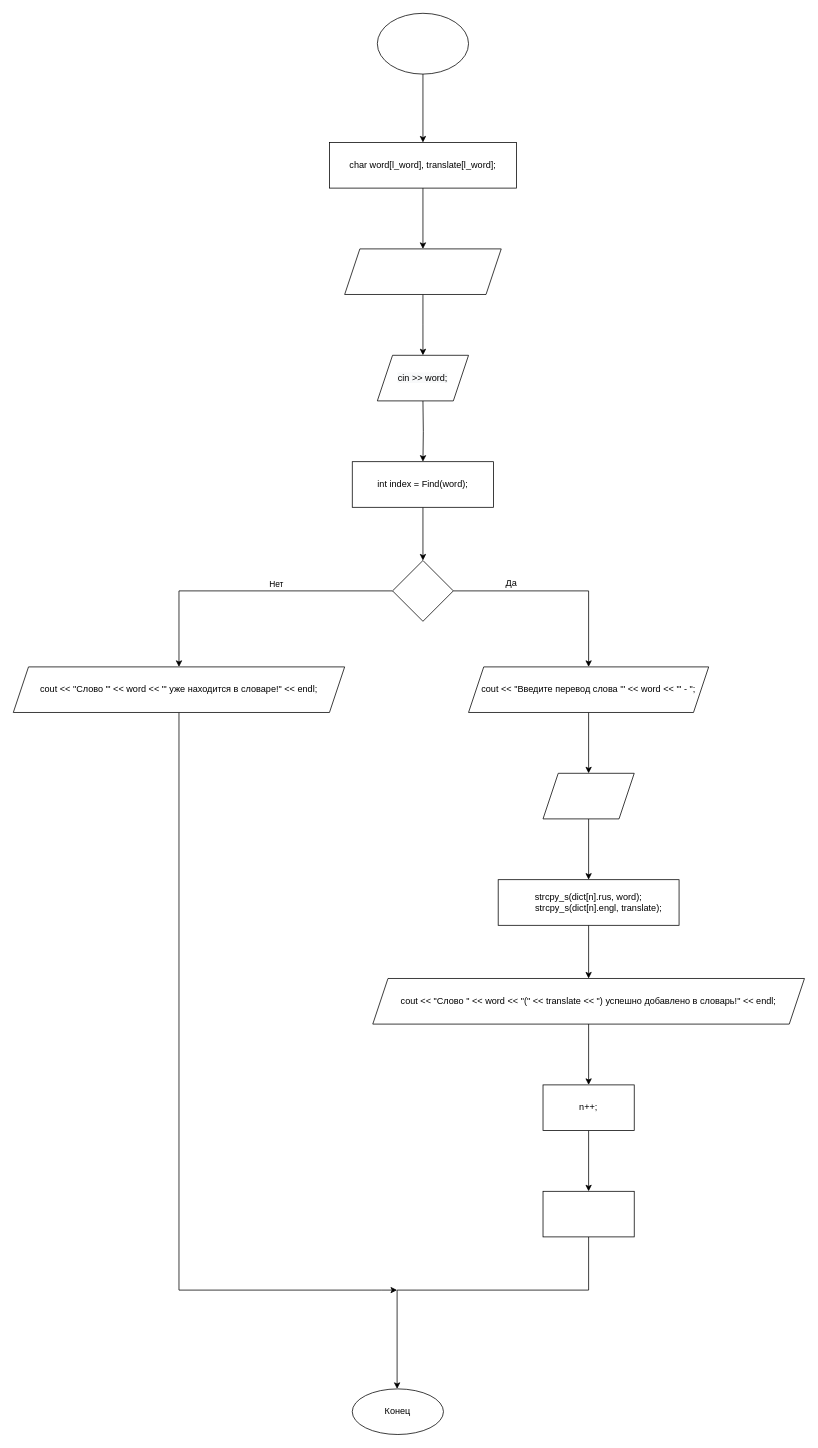
This 818x1448 diagram has some shape labels left out. Each missing label, with the centre of its shape:
cin >> translate;: (588,796)
cout << "Введите слово - ";: (422,271)
index == -1: (422,590)
SortDict();: (588,1214)
Начало: (423,43)
